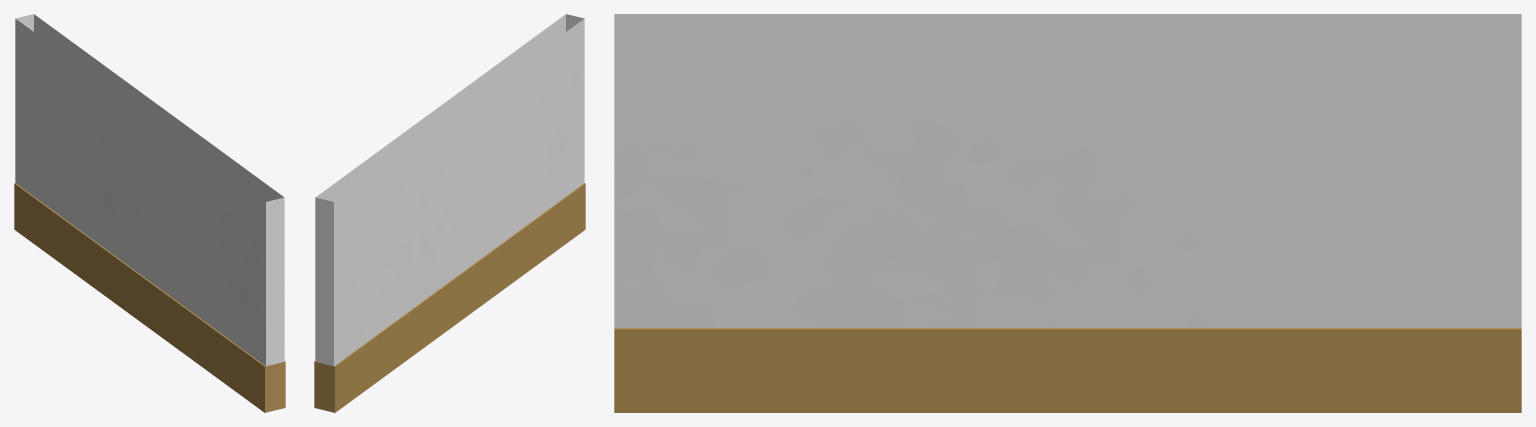
File: room_wall_A.fbx
3 views of the same model, side by side, from view 1: azimuth 30°, elevation 25°; view 2: azimuth 150°, elevation 25°; view 3: azimuth 270°, elevation 25° (orthographic). The views are drawn at different scales.
Parts seen in each view (by area): view 1: pCube2; view 2: pCube2; view 3: pCube2.
Boxes of the visible parts, <box> form: pCube2: <box>14,14,285,412</box>; pCube2: <box>314,14,585,412</box>; pCube2: <box>614,14,1521,412</box>.
Bounding box in the file's own units: 1.71 × 16.44 × 35.45.
Materials: 1 (1 with a texture image).
